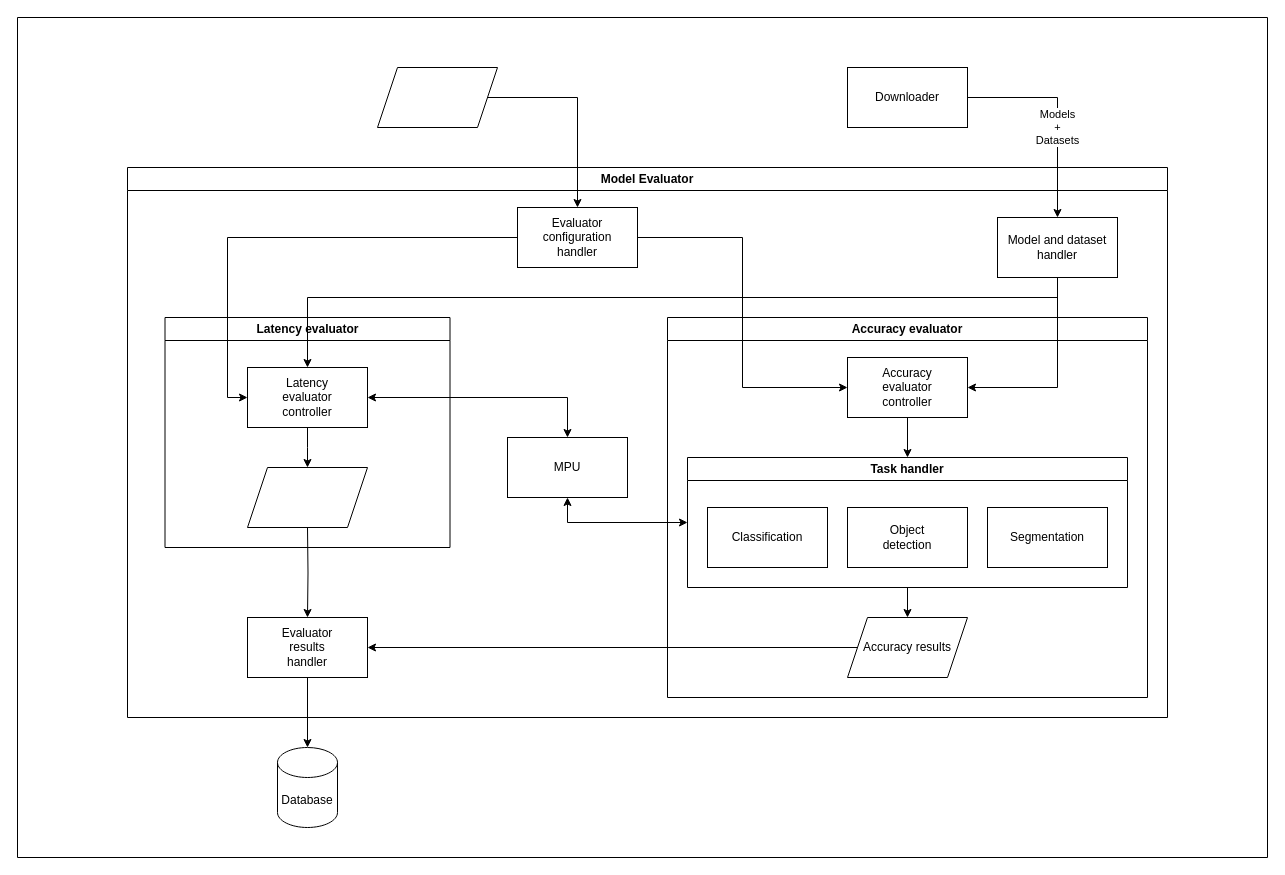
Some shapes in this 1285 by 875 pixel diagram are drawn without their labels. The box of each missing label's shape, as (x1, y1, x2, y2) in pixels:
Latency results: (246, 466, 368, 528)
Model Evaluator configuration: (376, 66, 498, 128)
